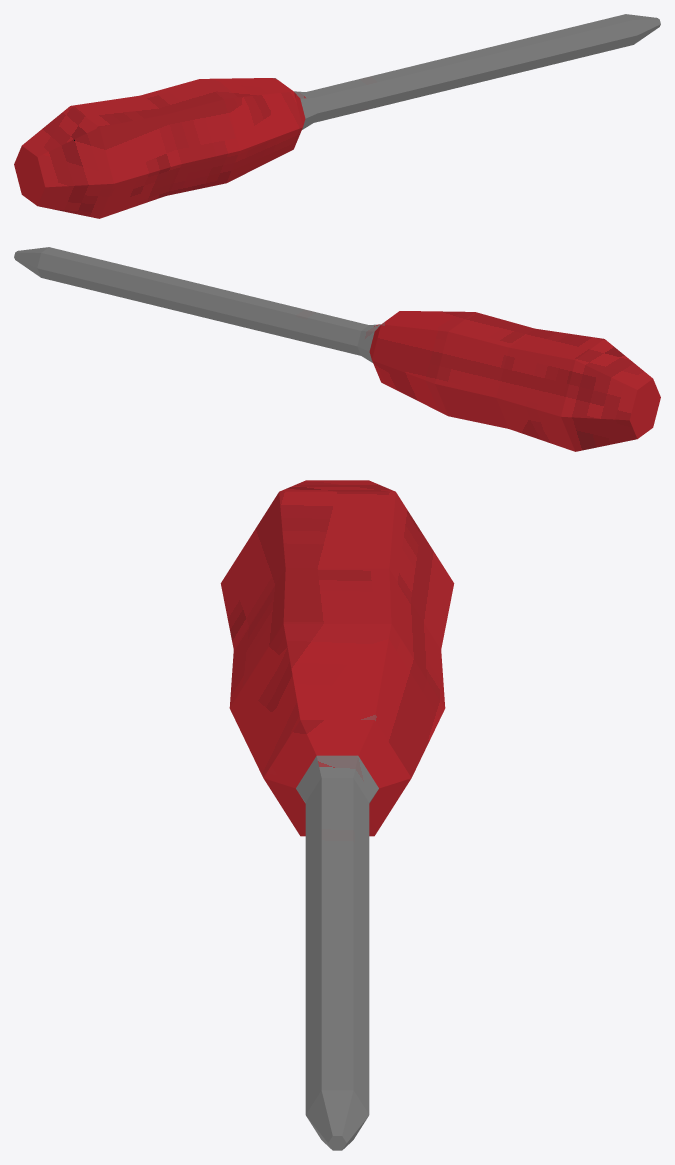
The model's file is Screwdriver.glb.
The picture shows the model from 3 angles, top to bottom: view 1: azimuth 30°, elevation 25°; view 2: azimuth 150°, elevation 25°; view 3: azimuth 270°, elevation 25°; orthographic projection. The views are drawn at different scales.
Visible parts, largest first — view 1: Screwdriver; view 2: Screwdriver; view 3: Screwdriver.
Boxes of the visible parts, <box> form: Screwdriver: <box>14,14,660,218</box>; Screwdriver: <box>14,247,660,451</box>; Screwdriver: <box>220,480,454,1150</box>.
Size of the model in its own units: 0.3788 by 0.0527 by 0.0609.
1 material, 1 textured.
